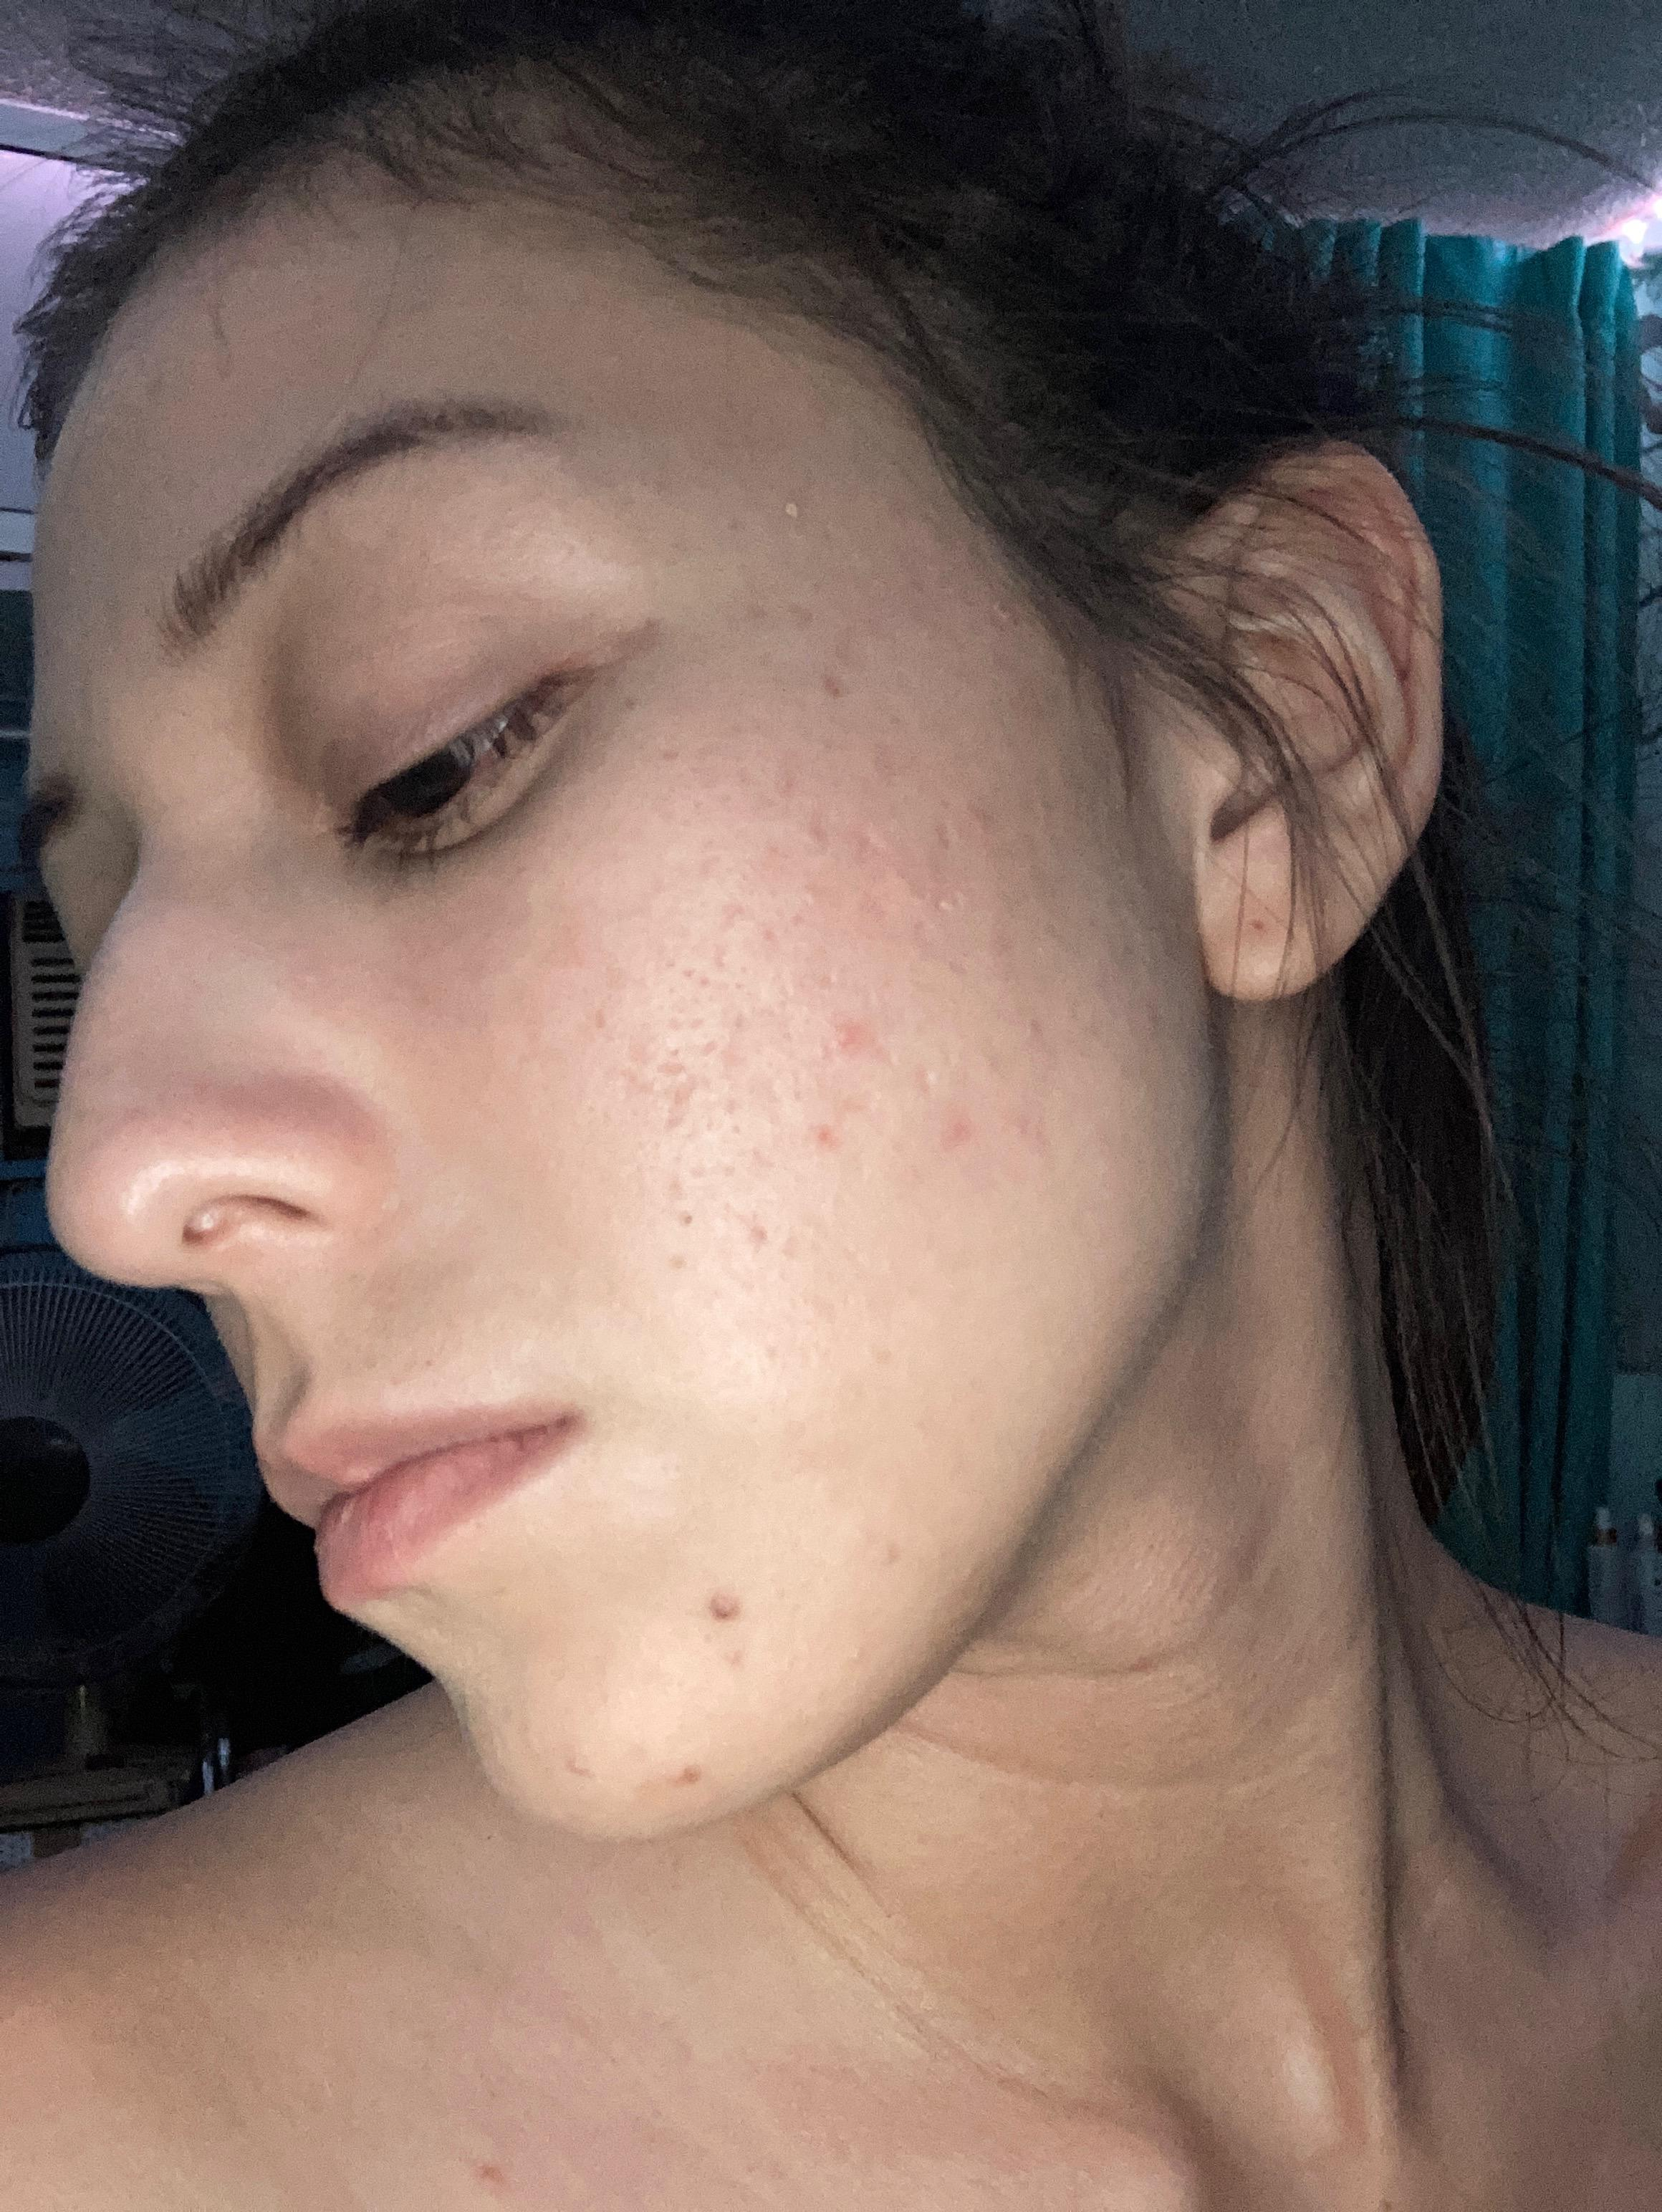Acne: (730, 887, 855, 1011), (656, 1191, 803, 1271), (634, 1044, 716, 1145), (997, 992, 1088, 1065), (791, 1060, 848, 1173), (812, 1000, 903, 1070), (738, 590, 857, 642), (738, 1074, 791, 1184), (1000, 1107, 1100, 1159), (686, 941, 733, 1046), (932, 1100, 1000, 1159), (787, 805, 840, 868), (765, 752, 822, 801), (958, 789, 1006, 843), (670, 1762, 721, 1810), (566, 1732, 599, 1802), (1126, 1004, 1189, 1041), (817, 663, 852, 714), (780, 492, 824, 531), (903, 908, 936, 953)
